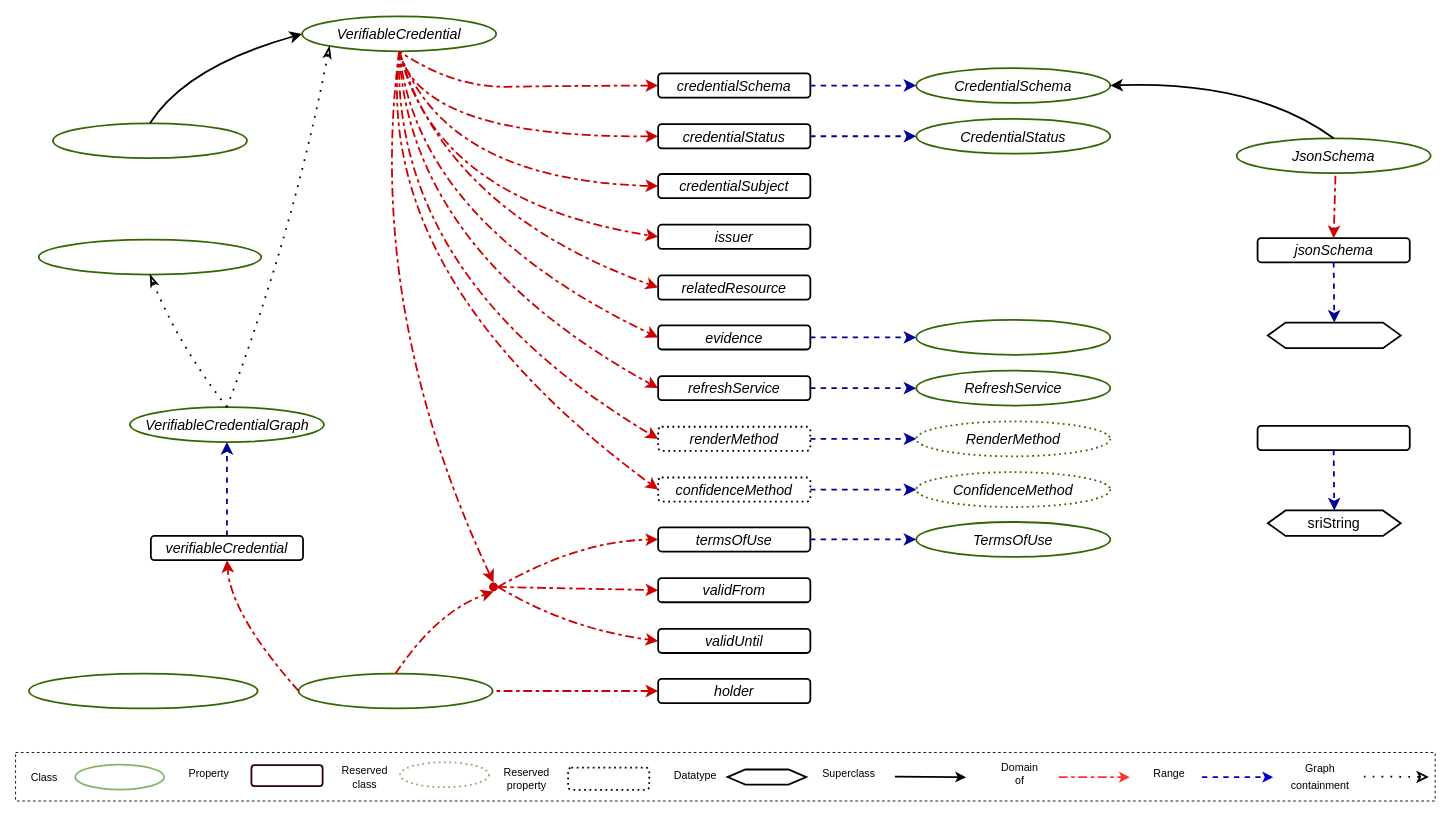
This 1451x816 diagram has some shape labels left out. Each missing label, with the centre of its shape:
CredentialEvidence: the point at 1013,337
digestSRI: the point at 1333,438
EnvelopedVerifiableCredential: the point at 149,256
EnvelopedVerifiablePresentation: the point at 143,690
JsonSchemaCredential: the point at 149,140
rdf:JSON: the point at 1333,335
VerifiablePresentation: the point at 395,690
